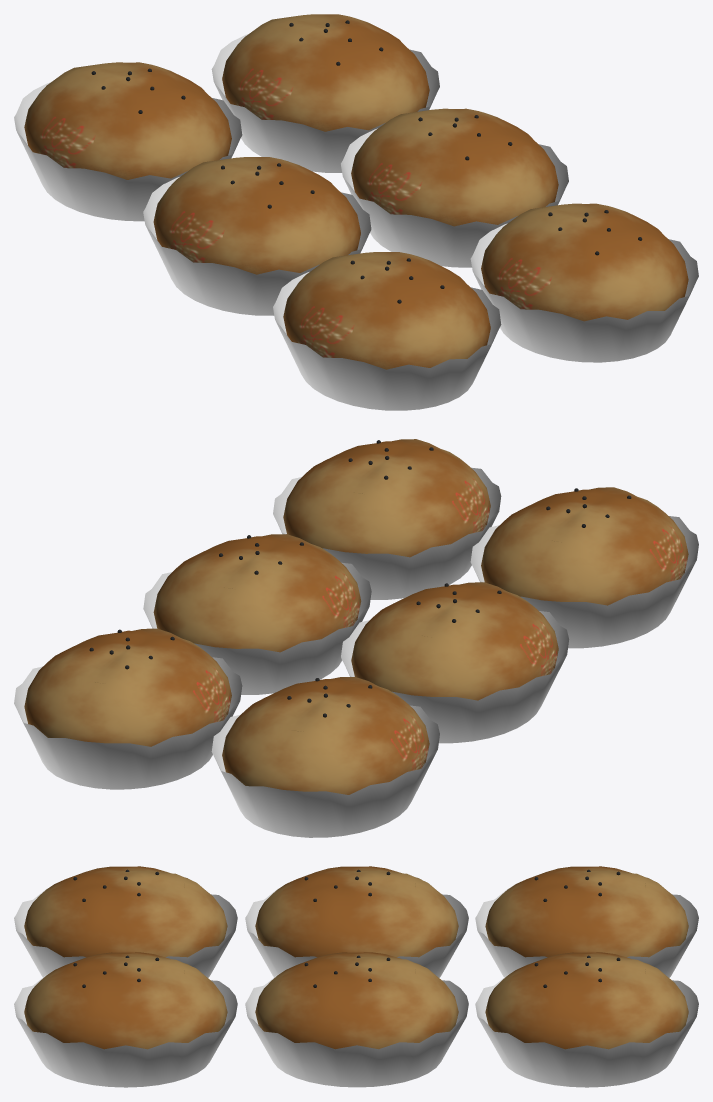
Rendered from abon-dalam.glb.
3 views of the same model, one above another, from view 1: azimuth 30°, elevation 25°; view 2: azimuth 150°, elevation 25°; view 3: azimuth 270°, elevation 25° (orthographic). The views are drawn at different scales.
Parts seen in each view (by area): view 1: Roti O.001, Roti O, Roti O.003, Roti O.002, Roti O.007, Roti O.006, Cup, Cup.001, Cup.002, Cup.007, Cup.003, Cup.006; view 2: Roti O.007, Roti O.006, Roti O.001, Roti O, Roti O.003, Roti O.002, Cup.007, Cup.006, Cup, Cup.002, Cup.001, Cup.003; view 3: Roti O.001, Roti O.003, Roti O.006, Roti O, Roti O.007, Roti O.002, Cup.001, Cup.006, Cup.003, Cup, Cup.007, Cup.002.
Boxes of the visible parts, x1,y1,x2,y2 form: Roti O.001: (481, 203, 688, 321); Roti O: (283, 252, 490, 369); Roti O.003: (351, 108, 558, 226); Roti O.002: (153, 157, 360, 274); Roti O.007: (24, 62, 231, 179); Roti O.006: (222, 14, 429, 131); Cup: (273, 272, 501, 410); Cup.001: (470, 223, 698, 362); Cup.002: (143, 177, 371, 315); Cup.007: (14, 82, 242, 221); Cup.003: (341, 128, 568, 267); Cup.006: (211, 34, 439, 172); Roti O.007: (222, 677, 429, 794); Roti O.006: (24, 628, 231, 746); Roti O.001: (283, 439, 490, 557); Roti O: (481, 487, 688, 605); Roti O.003: (153, 534, 361, 652); Roti O.002: (351, 582, 558, 700); Cup.007: (211, 705, 439, 837); Cup.006: (14, 657, 242, 789); Cup: (470, 516, 698, 648); Cup.002: (341, 611, 569, 743); Cup.001: (273, 467, 501, 599); Cup.003: (143, 562, 371, 694); Roti O.001: (24, 952, 227, 1049); Roti O.003: (255, 952, 458, 1049); Roti O.006: (485, 952, 688, 1049); Roti O: (24, 866, 227, 957); Roti O.007: (485, 866, 688, 957); Roti O.002: (255, 866, 458, 957); Cup.001: (14, 974, 237, 1087); Cup.006: (475, 974, 698, 1087); Cup.003: (245, 974, 468, 1087); Cup: (14, 888, 237, 977); Cup.007: (475, 888, 698, 977); Cup.002: (245, 888, 468, 977).
Bounding box in the file's own units: 0.2094 × 0.0539 × 0.3591.
Materials: 60 (6 with a texture image).
